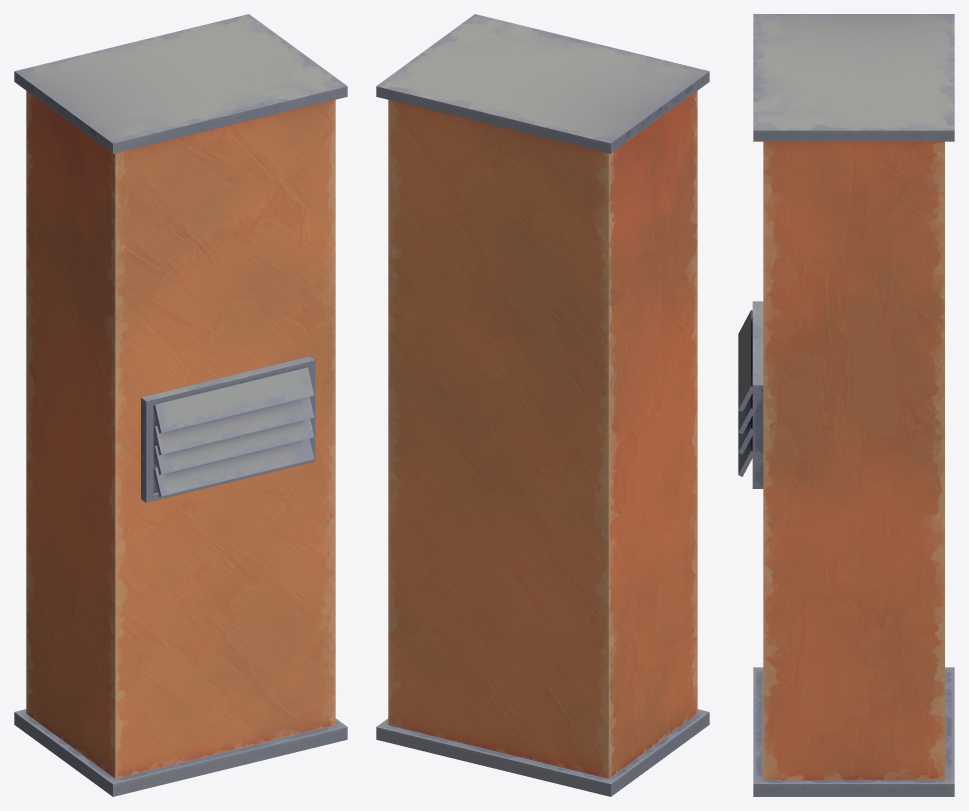
Rendered from DutoArVentilacao.fbx.
The picture shows the model from 3 angles, left to right: view 1: azimuth 30°, elevation 25°; view 2: azimuth 150°, elevation 25°; view 3: azimuth 270°, elevation 25°; orthographic projection.
Visible parts, largest first — view 1: DutoArVentilacao; view 2: DutoArVentilacao; view 3: DutoArVentilacao.
Boxes of the visible parts, x1,y1,x2,y2 form: DutoArVentilacao: [14, 14, 347, 796]; DutoArVentilacao: [376, 14, 709, 796]; DutoArVentilacao: [738, 14, 954, 796].
Size of the model in its own units: 0.5641 by 1.5 by 0.4418.
